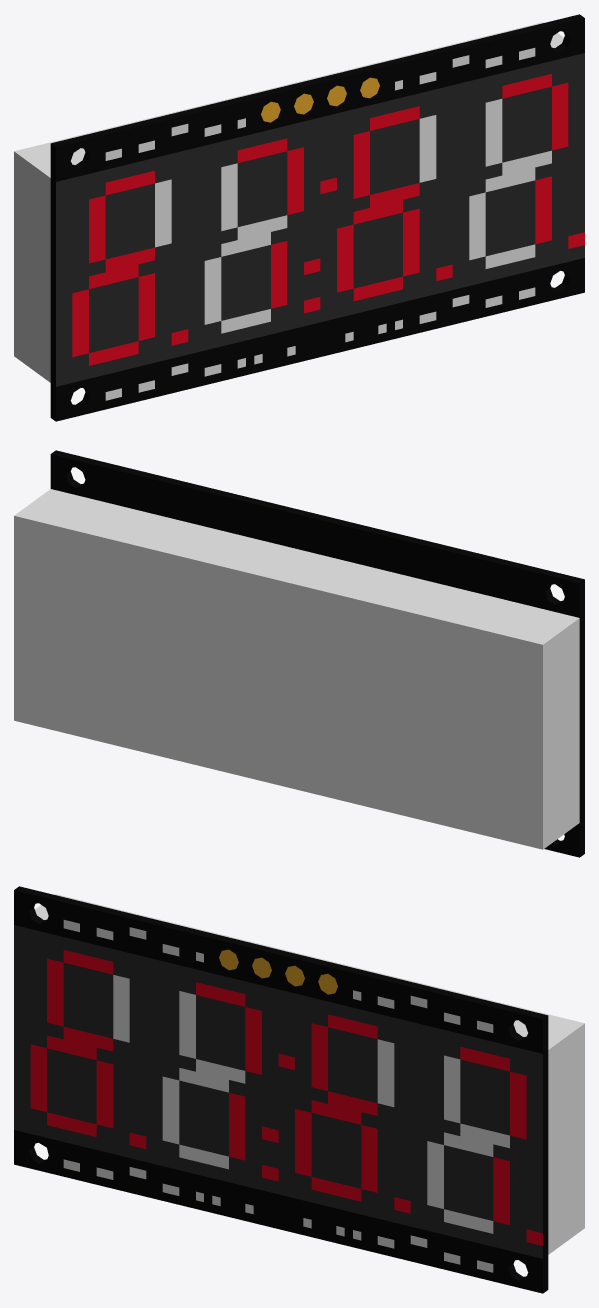
The model's file is 7SegmentClockDisplay.glb.
3 renders of one model, top to bottom at view 1: azimuth 30°, elevation 25°; view 2: azimuth 150°, elevation 25°; view 3: azimuth 330°, elevation 25°, orthographic.
Parts seen in each view (by area): view 1: 7 Segment Clock Display; view 2: 7 Segment Clock Display; view 3: 7 Segment Clock Display.
Part boxes in pixels (x1,y1,x2,y2): 7 Segment Clock Display: (14,14,584,421); 7 Segment Clock Display: (14,450,584,857); 7 Segment Clock Display: (14,886,584,1293).
Bounding box in the file's own units: 1.11 × 0.5525 × 0.1531.
